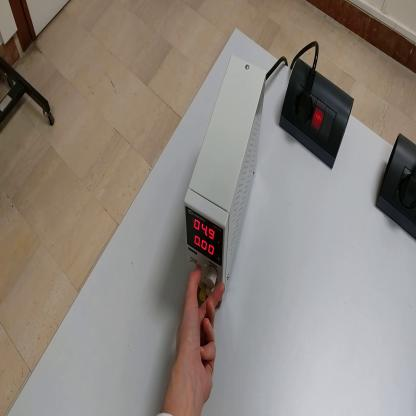hand: (173, 269, 223, 406)
power supply: (184, 55, 267, 304)
socket: (281, 55, 357, 176), (374, 125, 416, 242)
